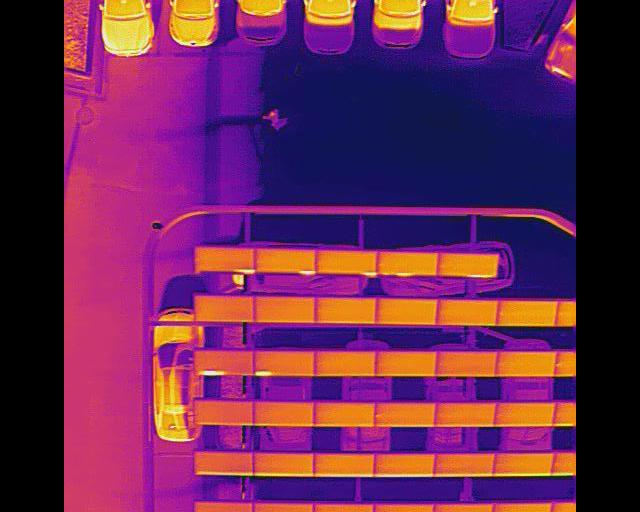No-Anomaly: (497, 299, 559, 325), (436, 299, 500, 324), (495, 351, 559, 376), (436, 351, 500, 376), (375, 299, 438, 324), (254, 297, 316, 322), (314, 298, 376, 323), (315, 350, 377, 375), (375, 350, 437, 375), (436, 401, 497, 426), (195, 296, 255, 321), (253, 401, 315, 425), (495, 402, 556, 426), (375, 402, 436, 426), (433, 452, 494, 476), (316, 402, 376, 426), (314, 453, 376, 476), (494, 452, 555, 475), (374, 452, 435, 475), (254, 452, 314, 474), (195, 401, 254, 423), (195, 452, 253, 474), (433, 502, 494, 512), (493, 502, 553, 512), (196, 502, 253, 512), (374, 504, 434, 512)
Unclassified: (254, 249, 317, 273), (254, 351, 315, 375), (317, 250, 378, 274), (377, 251, 438, 275), (438, 253, 498, 277), (195, 248, 255, 272), (196, 350, 253, 374), (314, 502, 376, 512), (253, 503, 314, 512)
